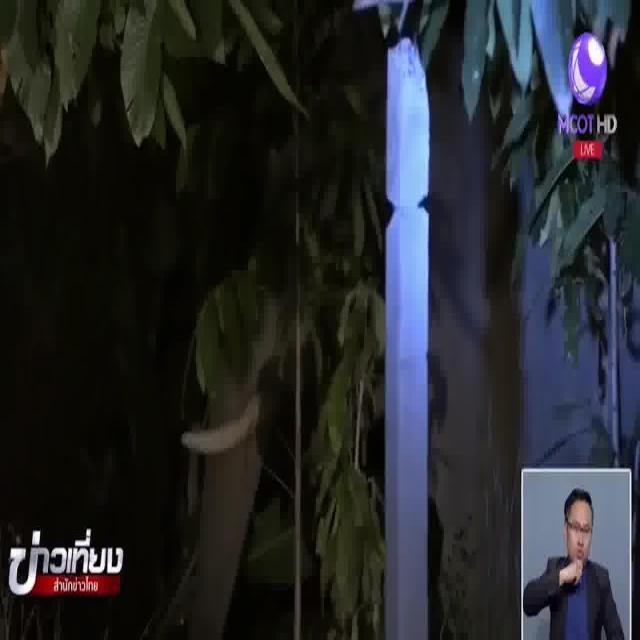Elephant: (162, 146, 286, 597)
